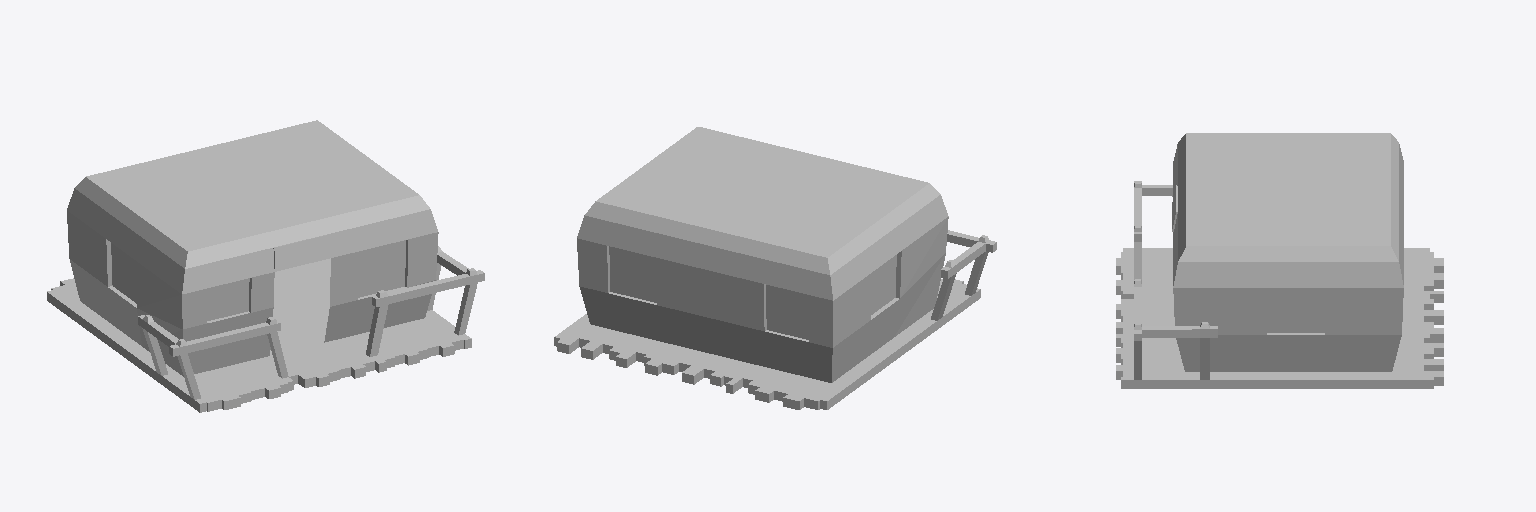
The model's file is jail.obj.
3 views of the same model, side by side, from view 1: azimuth 30°, elevation 25°; view 2: azimuth 150°, elevation 25°; view 3: azimuth 270°, elevation 25° (orthographic).
Visible parts, largest first — view 1: pCube4, pCube3; view 2: pCube4, pCube3; view 3: pCube4, pCube3.
Part boxes in pixels (left/top/right/bottom): pCube4: left=67, top=120, right=438, bottom=376; pCube3: left=47, top=246, right=484, bottom=412; pCube4: left=577, top=127, right=948, bottom=382; pCube3: left=554, top=230, right=996, bottom=409; pCube4: left=1172, top=133, right=1403, bottom=371; pCube3: left=1116, top=181, right=1443, bottom=388.
Bounding box in the file's own units: 9.78 × 4 × 8.91.